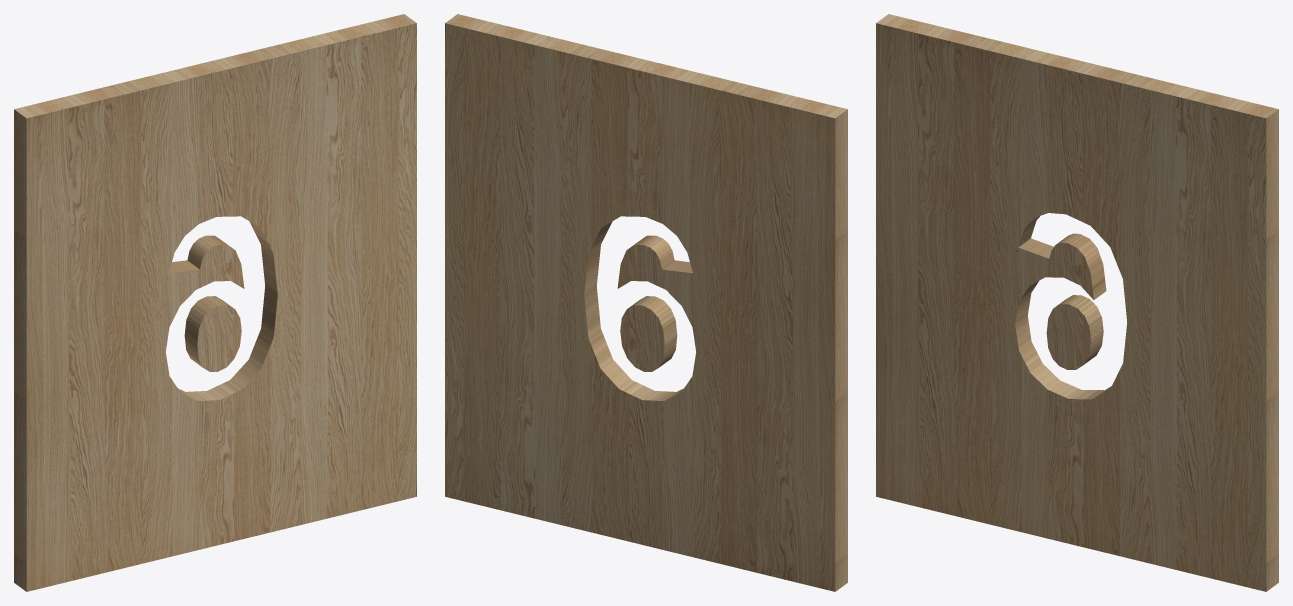
3 views of the same model, side by side, from view 1: azimuth 30°, elevation 25°; view 2: azimuth 150°, elevation 25°; view 3: azimuth 330°, elevation 25° (orthographic).
Visible parts, largest first — view 1: so6; view 2: so6; view 3: so6.
Part boxes in pixels (box(x1,y1,x2,y2)): so6: box(14, 14, 416, 591); so6: box(445, 14, 847, 591); so6: box(876, 14, 1278, 591).
Size of the model in its own units: 2.89 by 3.36 by 0.1618.
Materials: 1 (1 with a texture image).
